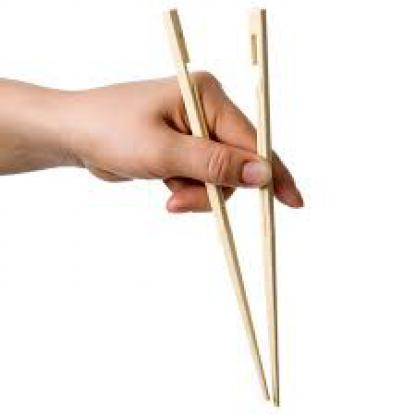chopstick: (164, 7, 270, 402), (246, 7, 279, 407)
